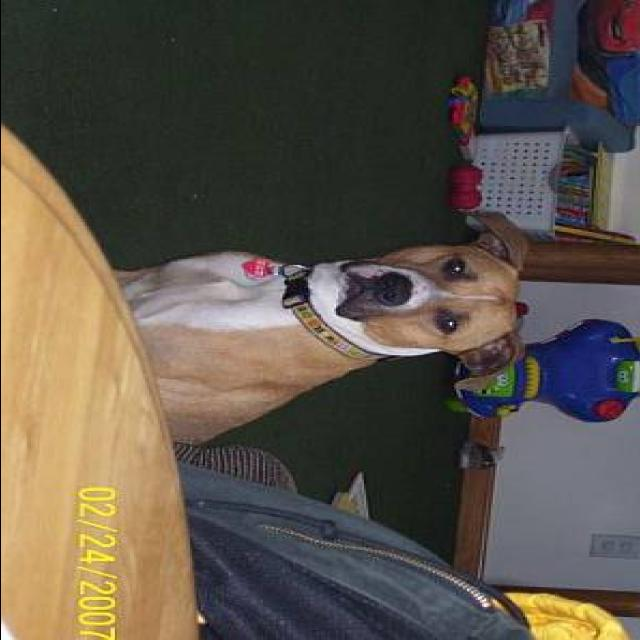dog: (103, 212, 541, 429)
